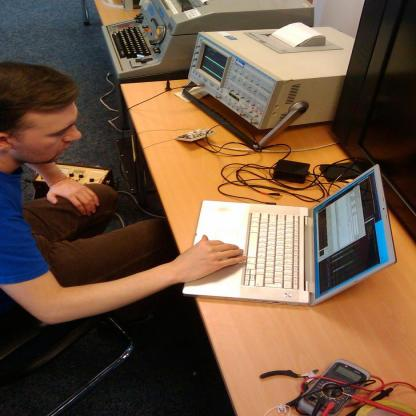board: (200, 160, 387, 314)
